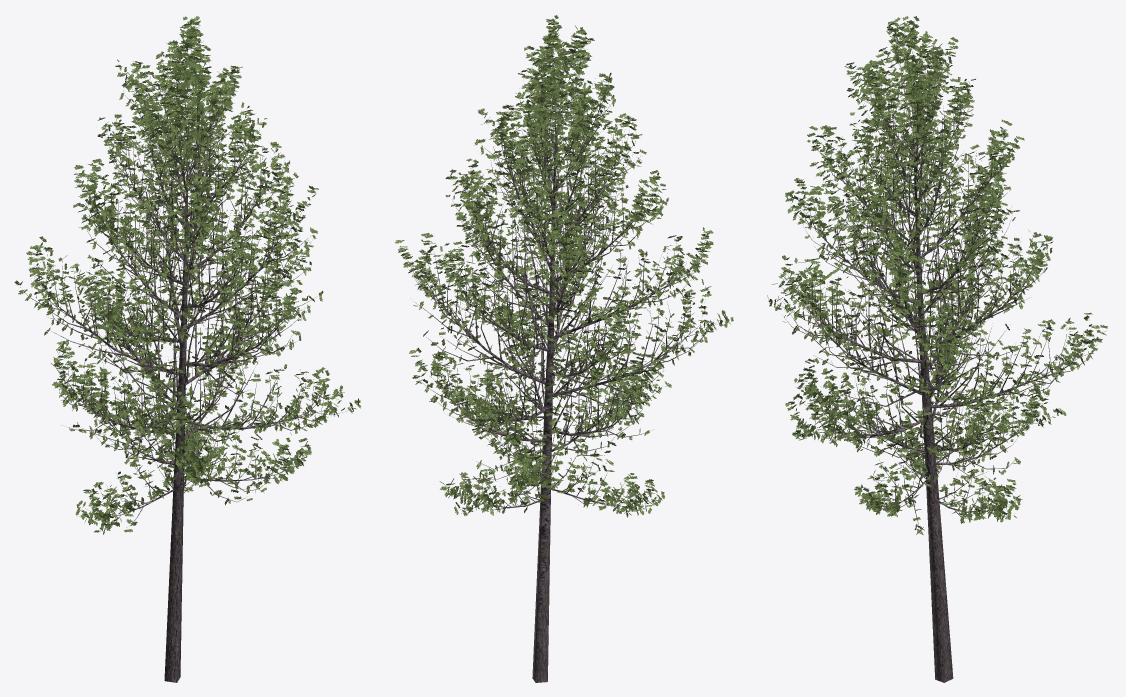
Rendered from tree.obj.
3 views of the same model, side by side, from view 1: azimuth 30°, elevation 25°; view 2: azimuth 150°, elevation 25°; view 3: azimuth 270°, elevation 25° (orthographic). The views are drawn at different scales.
Parts seen in each view (by area): view 1: leaves, trunk; view 2: leaves, trunk; view 3: leaves, trunk.
Boxes of the visible parts, x1,y1,x2,y2 form: leaves: (14,16,360,534); trunk: (20,36,350,682); leaves: (395,15,733,517); trunk: (406,41,727,682); leaves: (767,16,1107,534); trunk: (775,33,1096,682).
Bounding box in the file's own units: 7.71 × 17.64 × 8.34.
